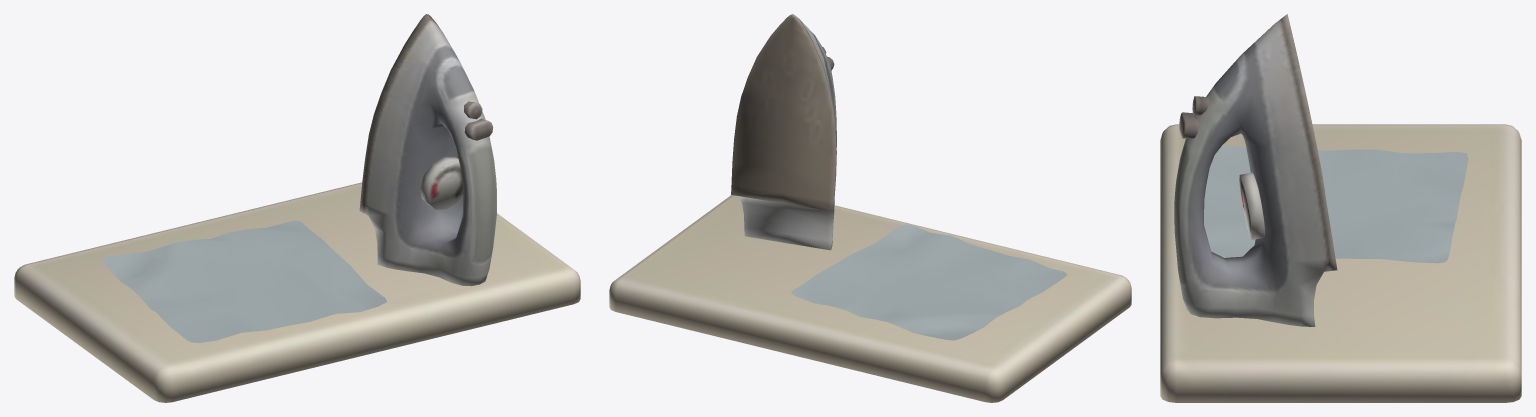
3 renders of one model, left to right at view 1: azimuth 30°, elevation 25°; view 2: azimuth 150°, elevation 25°; view 3: azimuth 270°, elevation 25°, orthographic. The views are drawn at different scales.
Size of the model in its own units: 8.9 by 5.49 by 5.5.
Materials: 2 (2 with a texture image).
